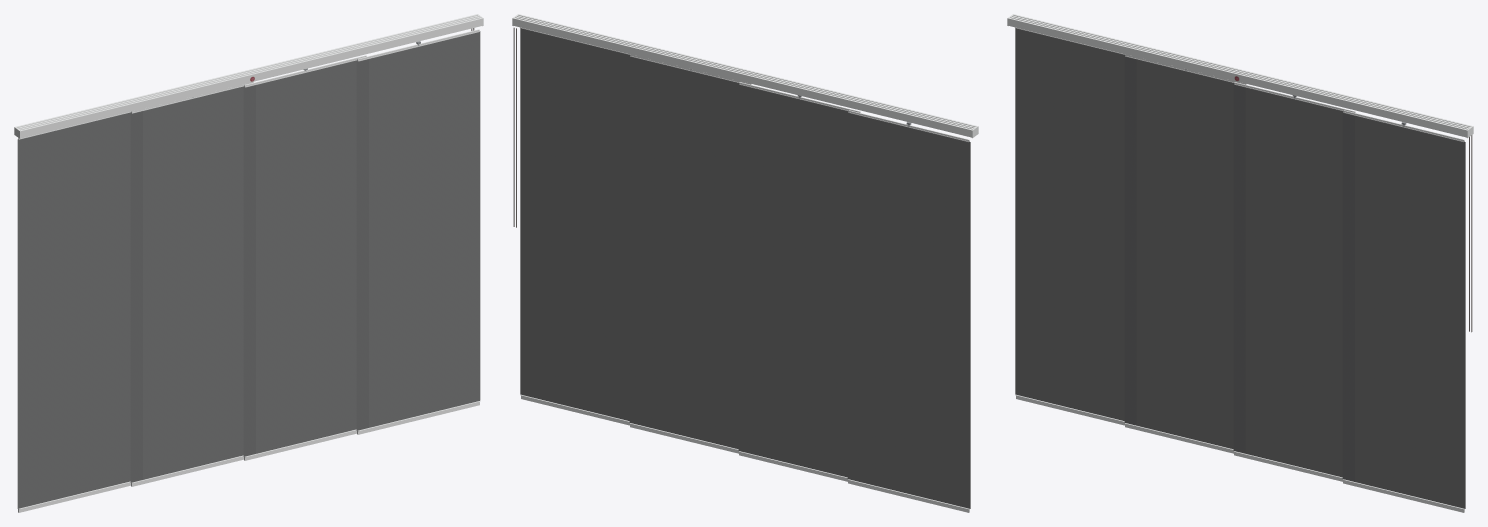
File: after-panel-white-black-closed.glb
3 renders of one model, left to right at view 1: azimuth 30°, elevation 25°; view 2: azimuth 150°, elevation 25°; view 3: azimuth 330°, elevation 25°, orthographic.
Parts seen in each view (by area): view 1: PANEL_TELO_1, PANEL_TELO_4, PANEL_TELO_2, PANEL_TELO_3, PANEL_OVERLAP_DENSITY_1, PANEL_OVERLAP_DENSITY_2, PANEL_OVERLAP_DENSITY_3, PANEL_RAIL_PROFILE_WAY_4, PANEL_RAIL_PROFILE_WAY_3, PANEL_RAIL_PROFILE_WAY_1, PANEL_RAIL_PROFILE_WAY_2, PANEL_BOTTOM_WEIGHT_4 (+3 smaller); view 2: PANEL_TELO_1, PANEL_TELO_4, PANEL_TELO_3, PANEL_TELO_2, PANEL_RAIL_PROFILE_WAY_1, PANEL_RAIL_PROFILE_WAY_2, PANEL_RAIL_PROFILE_WAY_4, PANEL_RAIL_PROFILE_WAY_3, PANEL_BOTTOM_WEIGHT_1, PANEL_BOTTOM_WEIGHT_3, PANEL_BOTTOM_WEIGHT_2, PANEL_BOTTOM_WEIGHT_4; view 3: PANEL_TELO_4, PANEL_TELO_1, PANEL_TELO_2, PANEL_TELO_3, PANEL_OVERLAP_DENSITY_1, PANEL_OVERLAP_DENSITY_3, PANEL_OVERLAP_DENSITY_2, PANEL_RAIL_PROFILE_WAY_4, PANEL_RAIL_PROFILE_WAY_3, PANEL_RAIL_PROFILE_WAY_1, PANEL_RAIL_PROFILE_WAY_2, PANEL_BOTTOM_WEIGHT_4 (+3 smaller).
Part boxes in pixels (bbox=[...]): PANEL_TELO_1: bbox=[17, 112, 131, 508]; PANEL_TELO_4: bbox=[369, 31, 480, 427]; PANEL_TELO_2: bbox=[143, 86, 244, 479]; PANEL_TELO_3: bbox=[256, 60, 357, 453]; PANEL_OVERLAP_DENSITY_1: bbox=[130, 111, 142, 482]; PANEL_OVERLAP_DENSITY_2: bbox=[243, 85, 255, 456]; PANEL_OVERLAP_DENSITY_3: bbox=[356, 59, 368, 430]; PANEL_RAIL_PROFILE_WAY_4: bbox=[21, 18, 482, 138]; PANEL_RAIL_PROFILE_WAY_3: bbox=[19, 16, 480, 130]; PANEL_RAIL_PROFILE_WAY_1: bbox=[16, 14, 477, 127]; PANEL_RAIL_PROFILE_WAY_2: bbox=[17, 15, 478, 128]; PANEL_BOTTOM_WEIGHT_4: bbox=[357, 401, 480, 434]; PANEL_TELO_1: bbox=[847, 112, 970, 508]; PANEL_TELO_4: bbox=[520, 27, 630, 420]; PANEL_TELO_3: bbox=[629, 56, 739, 449]; PANEL_TELO_2: bbox=[738, 84, 848, 477]; PANEL_RAIL_PROFILE_WAY_1: bbox=[513, 18, 972, 137]; PANEL_RAIL_PROFILE_WAY_2: bbox=[515, 16, 973, 129]; PANEL_RAIL_PROFILE_WAY_4: bbox=[518, 14, 976, 126]; PANEL_RAIL_PROFILE_WAY_3: bbox=[517, 15, 975, 128]; PANEL_BOTTOM_WEIGHT_1: bbox=[848, 479, 969, 512]; PANEL_BOTTOM_WEIGHT_3: bbox=[629, 423, 738, 453]; PANEL_BOTTOM_WEIGHT_2: bbox=[739, 451, 847, 481]; PANEL_BOTTOM_WEIGHT_4: bbox=[520, 395, 629, 425]; PANEL_TELO_4: bbox=[1355, 116, 1465, 508]; PANEL_TELO_1: bbox=[1015, 27, 1125, 420]; PANEL_TELO_2: bbox=[1136, 59, 1234, 449]; PANEL_TELO_3: bbox=[1245, 87, 1343, 477]; PANEL_OVERLAP_DENSITY_1: bbox=[1124, 56, 1136, 425]; PANEL_OVERLAP_DENSITY_3: bbox=[1342, 112, 1354, 481]; PANEL_OVERLAP_DENSITY_2: bbox=[1233, 84, 1245, 453]; PANEL_RAIL_PROFILE_WAY_4: bbox=[1008, 18, 1467, 137]; PANEL_RAIL_PROFILE_WAY_3: bbox=[1010, 16, 1468, 129]; PANEL_RAIL_PROFILE_WAY_1: bbox=[1013, 14, 1471, 126]; PANEL_RAIL_PROFILE_WAY_2: bbox=[1012, 15, 1470, 128]; PANEL_BOTTOM_WEIGHT_4: bbox=[1343, 479, 1464, 512].
Size of the model in its own units: 3.02 by 2.4 by 0.088.
8 materials, 5 textured.
